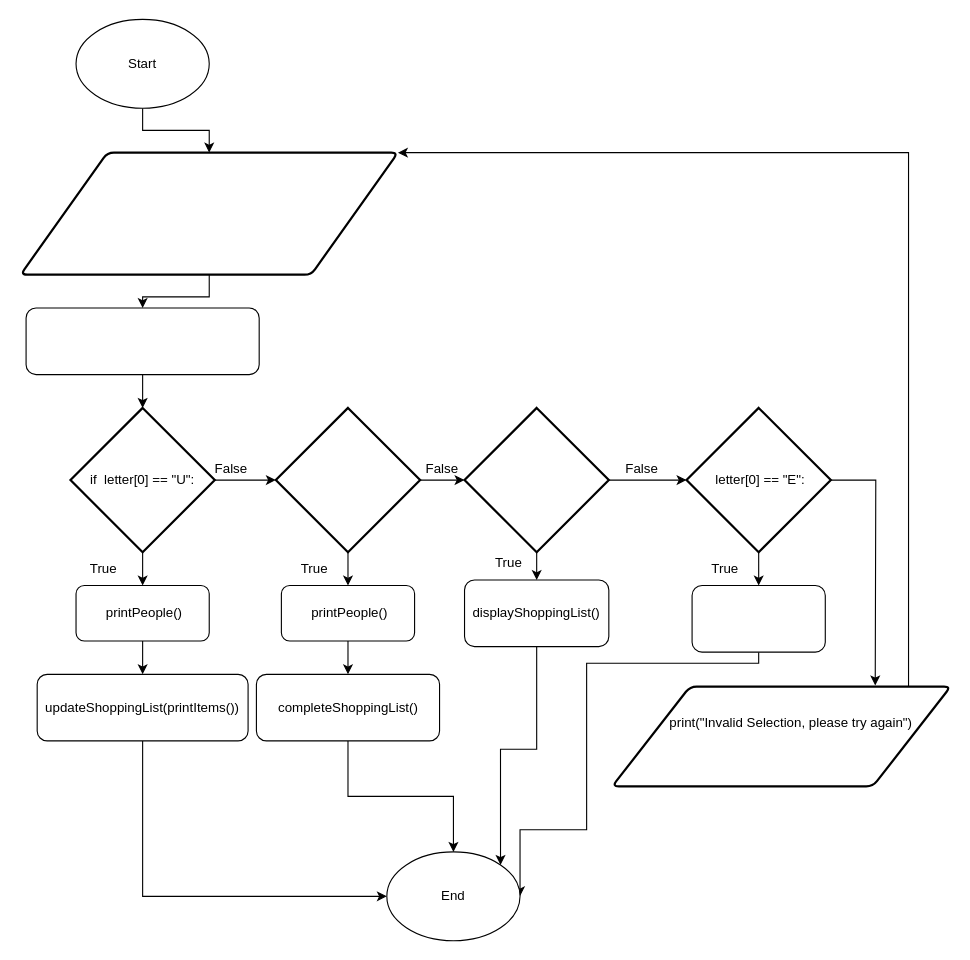
Image size: 970x960. Some labels were removed from this diagram. The centre of each missing label's shape, as x and y in pixels:
choice = input("What would you like to do? "): (x=208, y=213)
exitApplication(): (x=758, y=618)
letter = choice.split (" "): (x=142, y=341)
letter[0] == "C":: (x=347, y=479)
letter[0] == "D":: (x=536, y=479)
